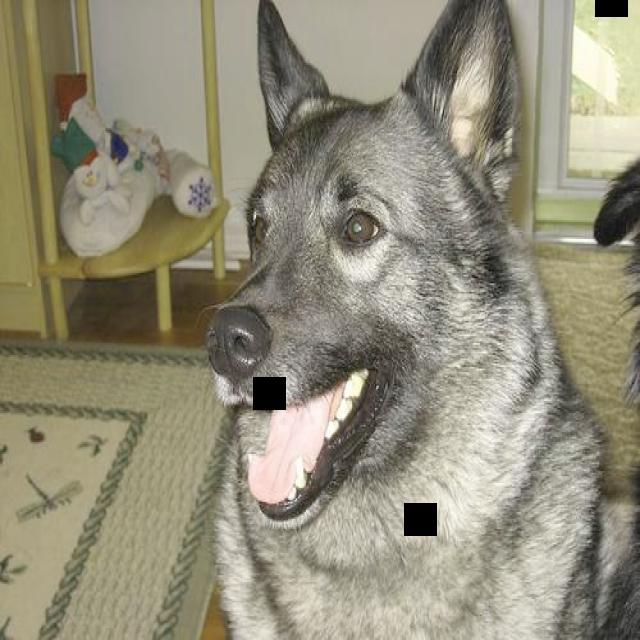adult_dog: (190, 1, 640, 640)
